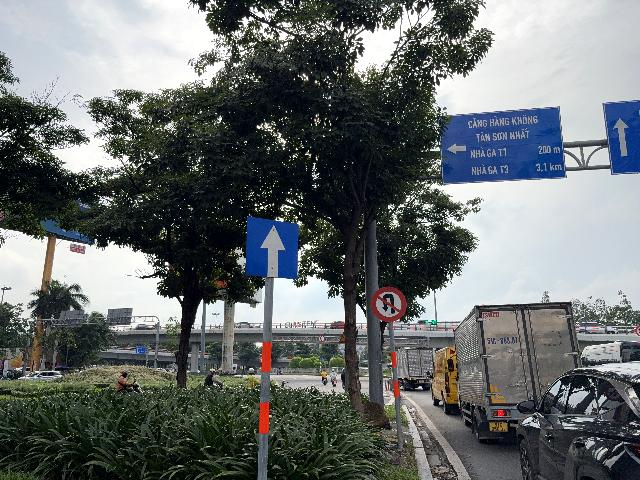cam-quay-dau-xe: (371, 286, 407, 322)
duong-mot-chieu: (246, 216, 299, 280)
